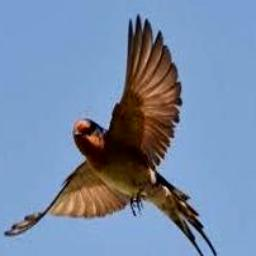Swallow: (3, 15, 217, 256)
